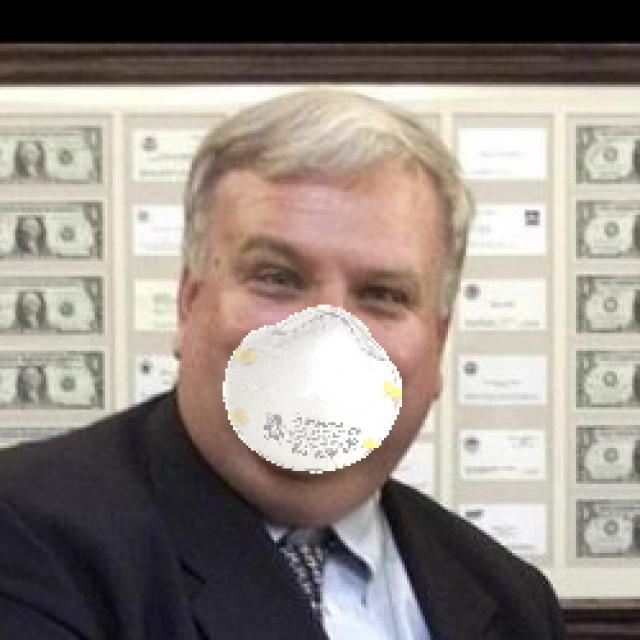mask: (216, 296, 415, 485)
